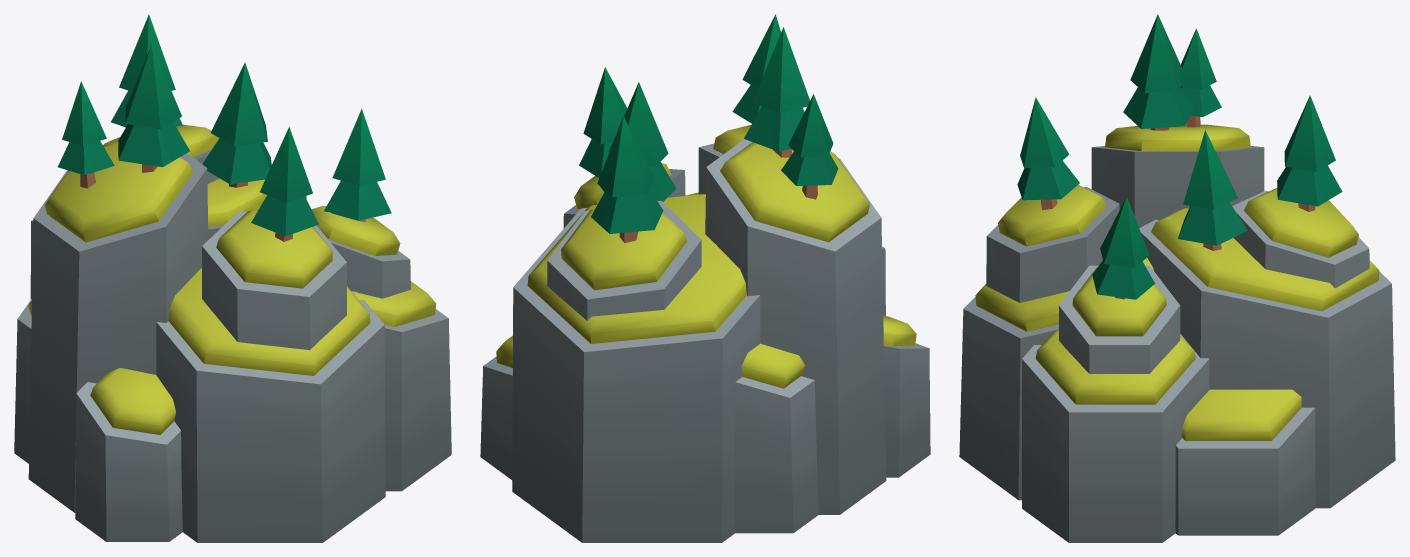
The model's file is kay-montanha-grama-arvores.gltf.
The picture shows the model from 3 angles, left to right: view 1: azimuth 30°, elevation 25°; view 2: azimuth 150°, elevation 25°; view 3: azimuth 270°, elevation 25°; orthographic projection. The views are drawn at different scales.
Parts seen in each view (by area): view 1: mountain_C_grass_trees; view 2: mountain_C_grass_trees; view 3: mountain_C_grass_trees.
Boxes of the visible parts, x1,y1,x2,y2 form: mountain_C_grass_trees: (14,14,451,542); mountain_C_grass_trees: (480,14,930,542); mountain_C_grass_trees: (959,14,1395,542).
Bounding box in the file's own units: 8.79 × 10.56 × 10.11.
1 material, 1 textured.
